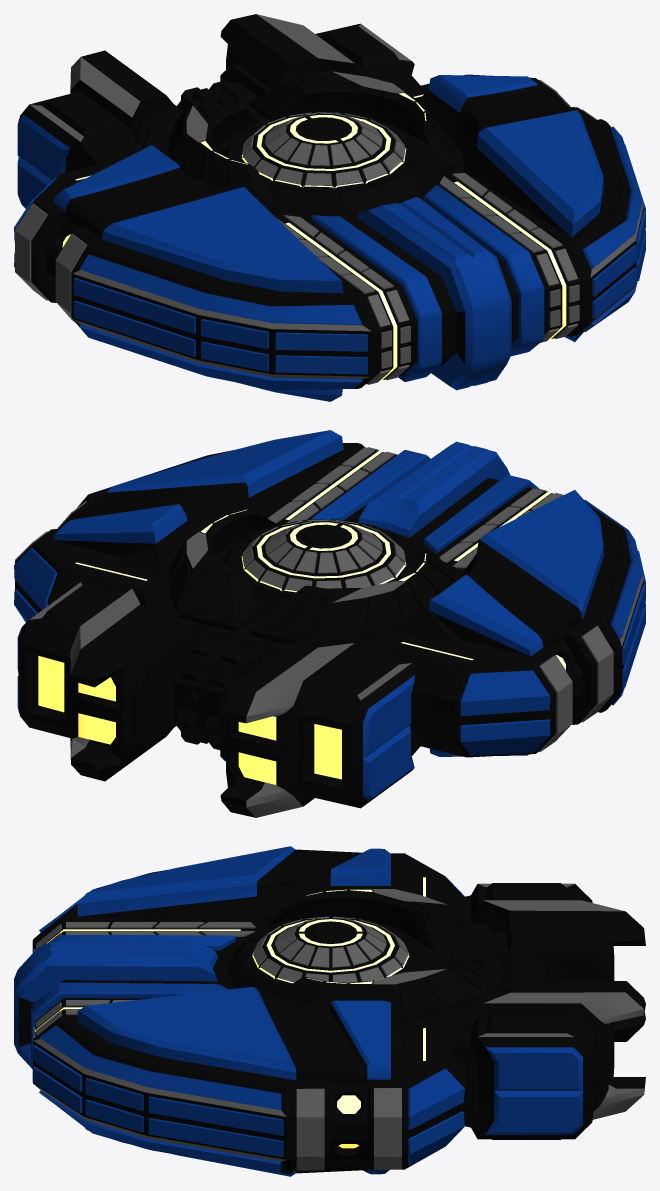
Rendered from 01_ship_super_solgasonder.glb.
3 renders of one model, top to bottom at view 1: azimuth 30°, elevation 25°; view 2: azimuth 150°, elevation 25°; view 3: azimuth 270°, elevation 25°, orthographic. The views are drawn at different scales.
Visible parts, largest first — view 1: 01_ship_super_solgasonder; view 2: 01_ship_super_solgasonder; view 3: 01_ship_super_solgasonder.
Boxes of the visible parts, x1,y1,x2,y2 form: 01_ship_super_solgasonder: (14, 14, 645, 401); 01_ship_super_solgasonder: (14, 430, 645, 817); 01_ship_super_solgasonder: (14, 846, 645, 1176).
Bounding box in the file's own units: 0.9618 × 0.2856 × 1.01.
